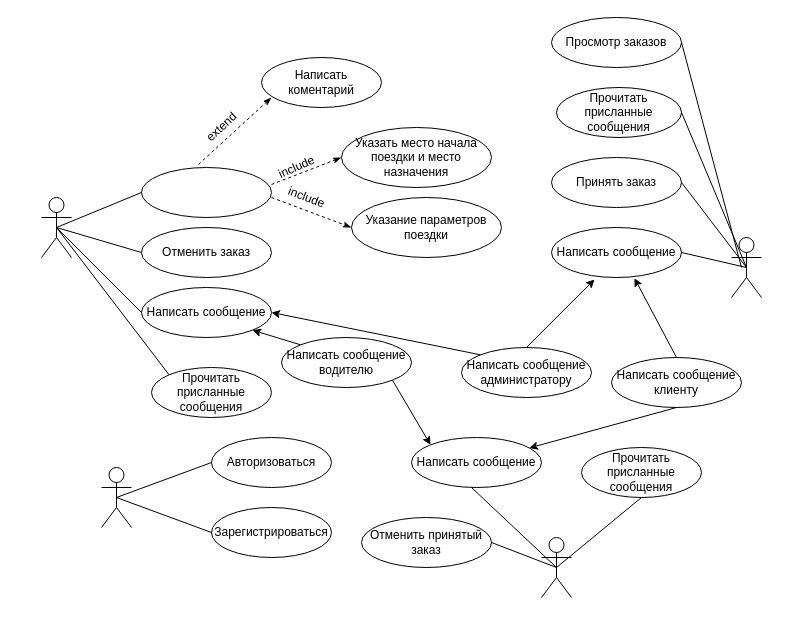
The diagram is 790 pixels wide and 636 high, and some of its shapes have lost their labels. The shapes that lost their labels are listed below. From the top down, each one's centre as x and y in pixels, then its label:
the point at 206,192: Создать заказ на поездку
the point at 56,227: Пользователь
the point at 746,267: Водитель
the point at 116,497: Незарегистрированный пользователь
the point at 556,567: Администратор
